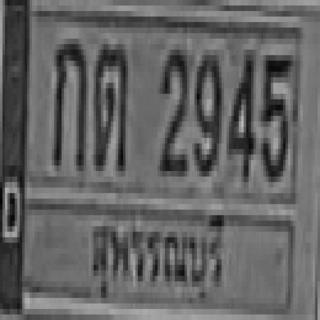A01: (52, 36, 84, 163)
A21: (92, 38, 127, 165)
N02: (158, 44, 187, 171)
N04: (226, 50, 254, 176)
N05: (260, 50, 289, 176)
N09: (192, 50, 219, 171)
P66: (85, 197, 228, 311)
